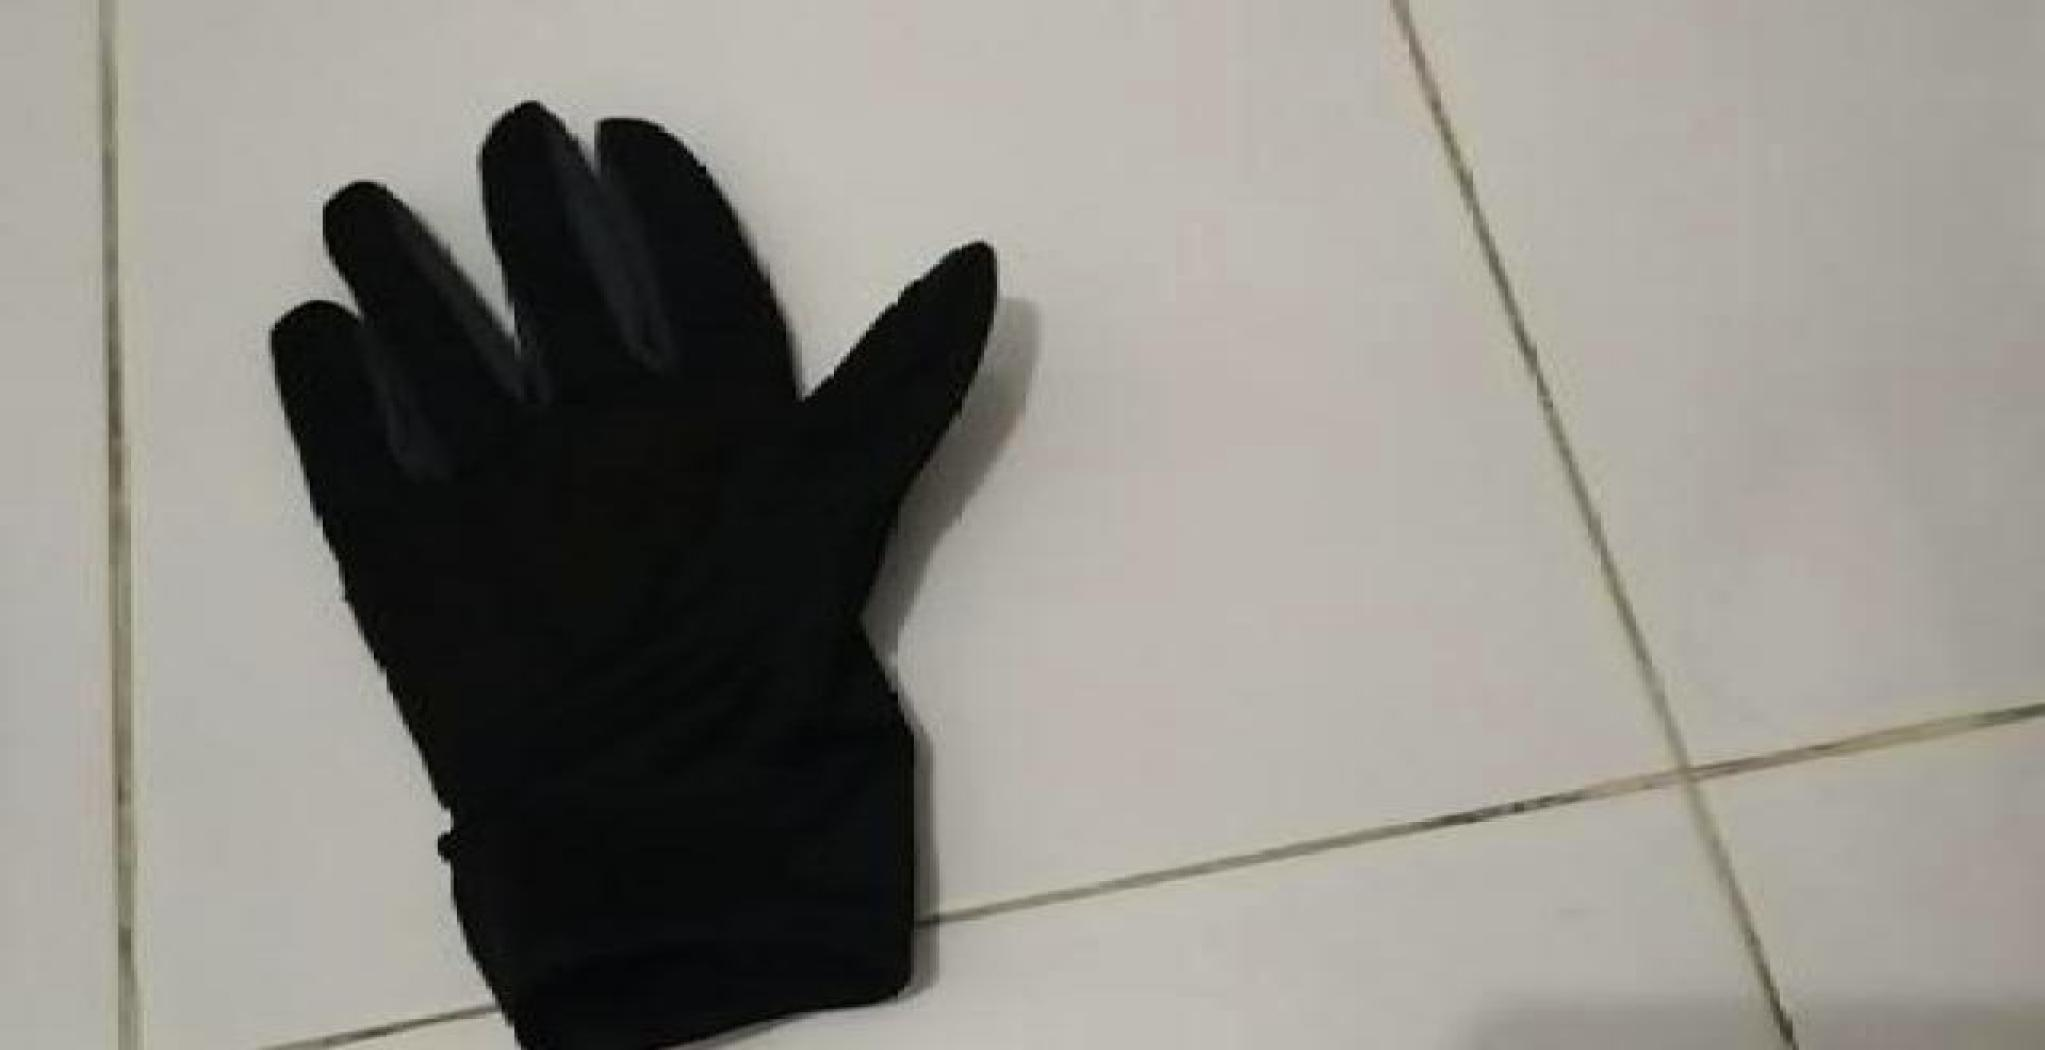gloved: (262, 99, 1000, 1049)
